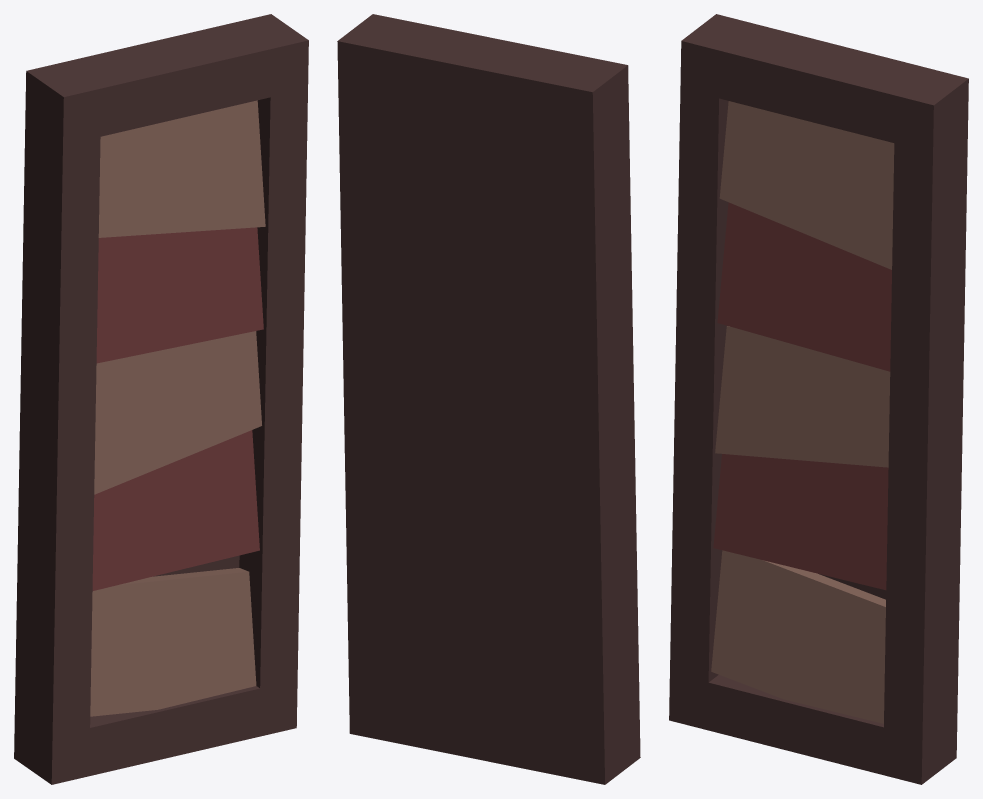
The model's file is DarkRoseWoodWallSmallLeftShutter1.fbx.
The picture shows the model from 3 angles, left to right: view 1: azimuth 30°, elevation 25°; view 2: azimuth 150°, elevation 25°; view 3: azimuth 330°, elevation 25°; orthographic projection.
Visible parts, largest first — view 1: DarkRoseWoodWallSmallLeftShutter1; view 2: DarkRoseWoodWallSmallLeftShutter1; view 3: DarkRoseWoodWallSmallLeftShutter1.
Boxes of the visible parts, x1,y1,x2,y2 form: DarkRoseWoodWallSmallLeftShutter1: (14, 14, 308, 784); DarkRoseWoodWallSmallLeftShutter1: (337, 14, 640, 784); DarkRoseWoodWallSmallLeftShutter1: (669, 14, 968, 784).
Size of the model in its own units: 151 by 379 by 40.38.
